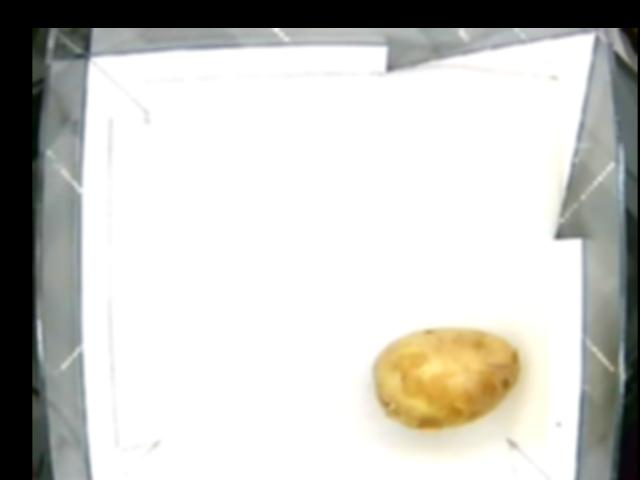Potato: (372, 326, 520, 430)
